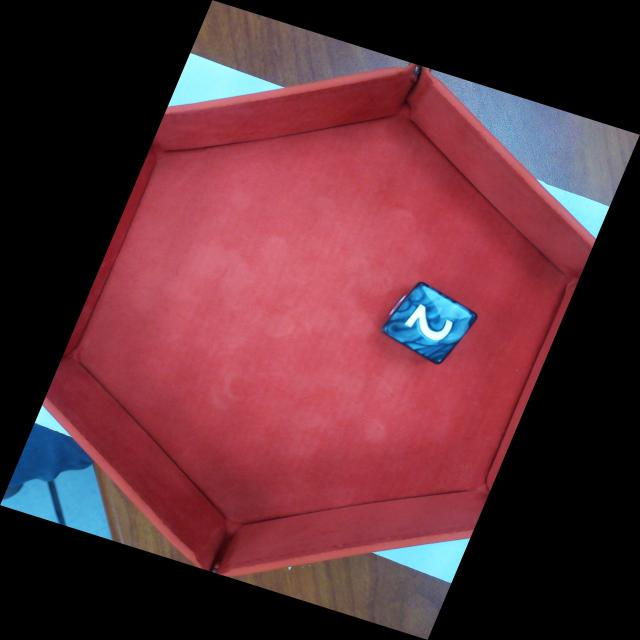dice: (383, 283, 477, 365)
